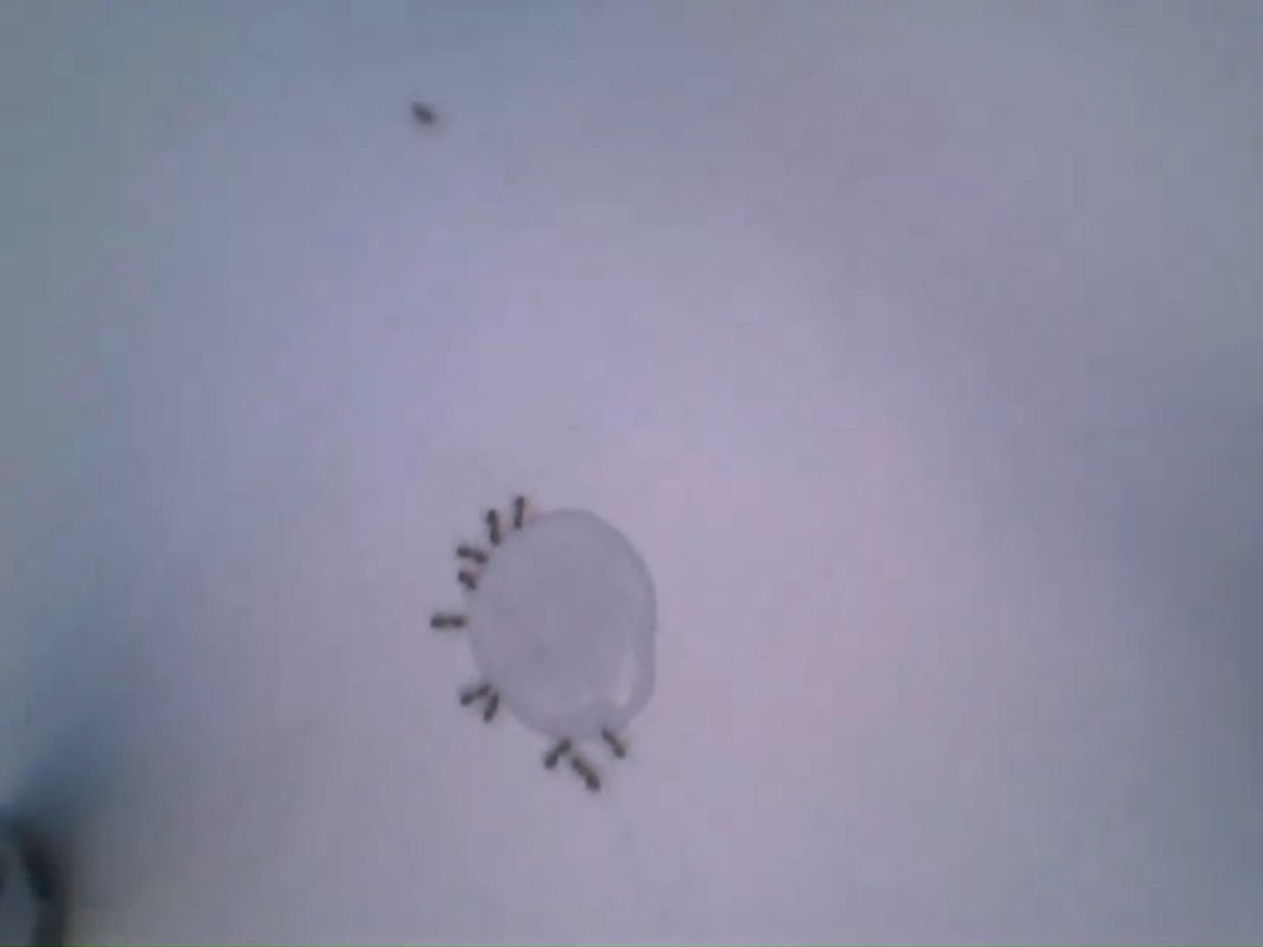Ant: (600, 726, 628, 763), (545, 739, 575, 771), (577, 759, 603, 795), (431, 610, 470, 634), (454, 542, 487, 566), (460, 682, 492, 706), (413, 100, 439, 128), (481, 688, 502, 722), (456, 566, 484, 591), (489, 508, 506, 546), (514, 495, 530, 530)
